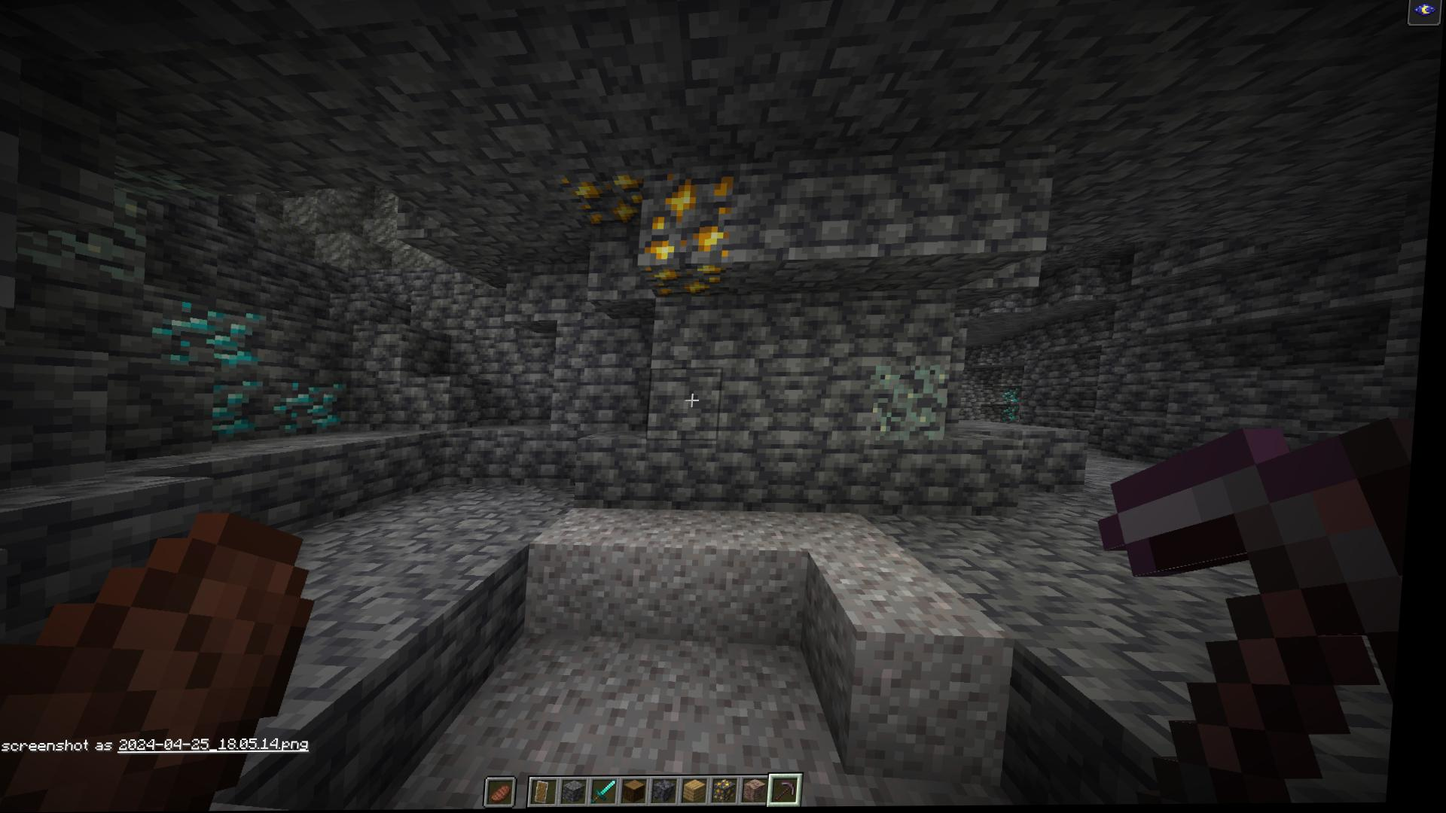diamond ore: (155, 295, 274, 368), (272, 377, 358, 430), (212, 370, 273, 436), (1009, 387, 1029, 407), (1009, 407, 1028, 423)
gold ore: (642, 170, 740, 264), (567, 170, 648, 229), (649, 267, 728, 302)
